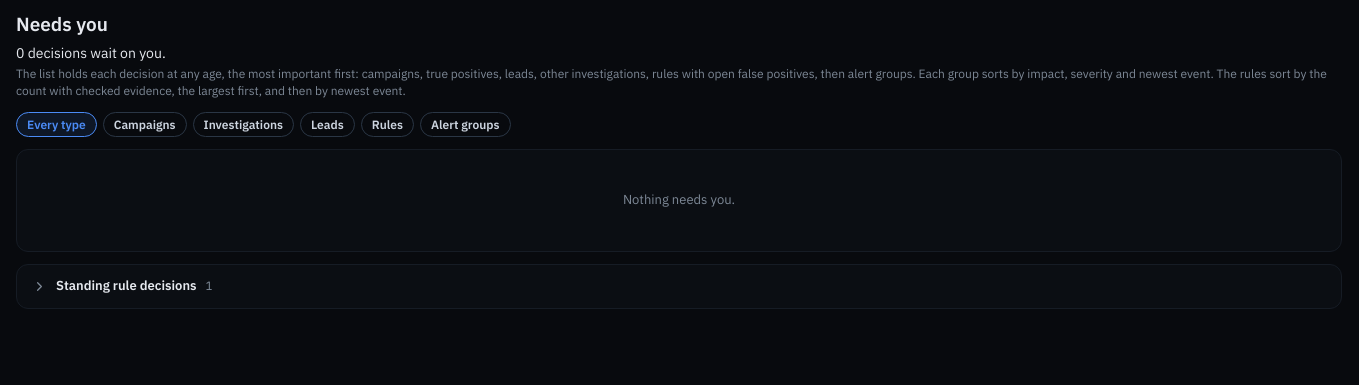
Needs you: the standing rule decisions › lists each decision in force with its end date, its count and the link of its rule
The image size is (1359, 385).
Click the button with aria-label "Expand Standing rule decisions" at [126, 285], box left=17, top=265, right=1341, bottom=308
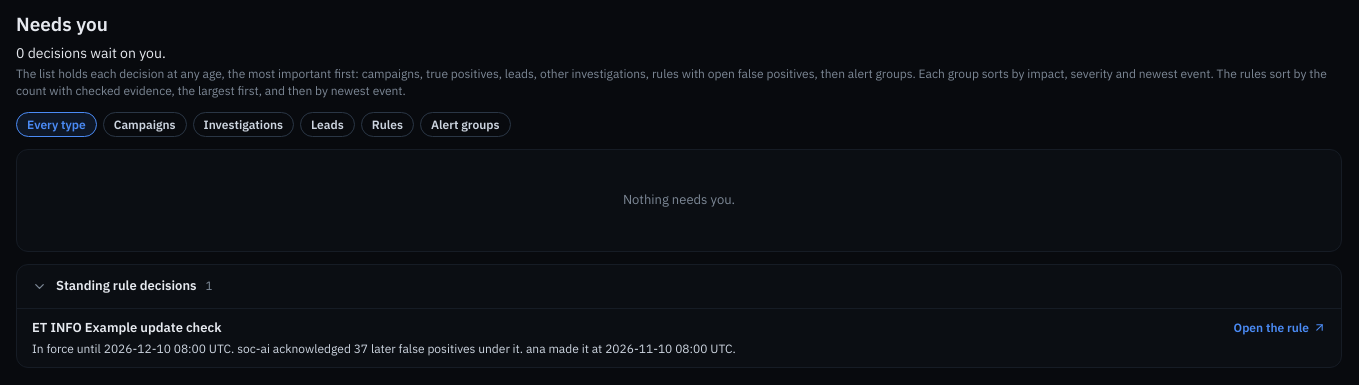
Result: the number of list items with test id "needs-you-standing-row" is 1 at left=17, top=309, right=1341, bottom=367
Result: the list item with test id "needs-you-standing-row" shows "ET INFO Example update check" at left=32, top=319, right=222, bottom=336
Result: the text with test id "needs-you-standing-facts" shows "In force until 2026-12-10 08:00 UTC. soc-ai acknowledged 37 later false positives under it. ana made it at 2026-11-10 08:00 UTC." at left=32, top=340, right=736, bottom=356
